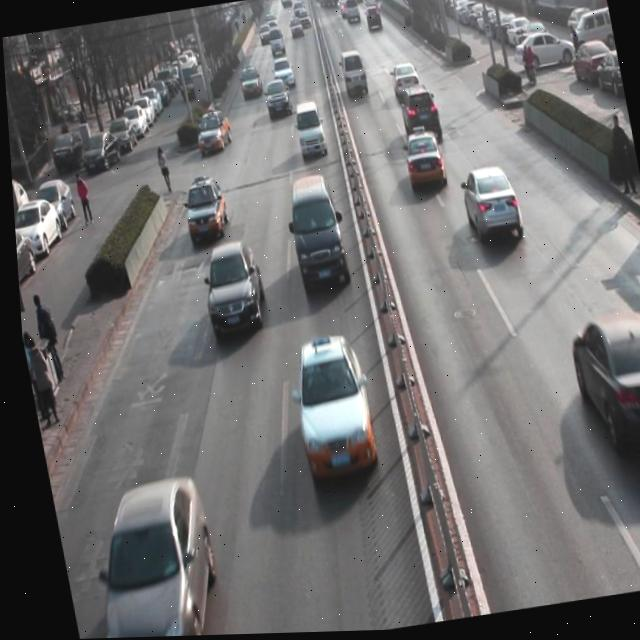car: (69, 481, 224, 639), (278, 334, 377, 483), (561, 311, 640, 463), (193, 239, 266, 338), (454, 162, 523, 255), (178, 178, 229, 244), (398, 131, 448, 196), (392, 83, 441, 145), (190, 109, 232, 157), (387, 59, 422, 104), (260, 78, 292, 121), (235, 66, 263, 100), (269, 58, 296, 92)
truck: (279, 172, 350, 298), (290, 102, 328, 163), (334, 45, 369, 104)
